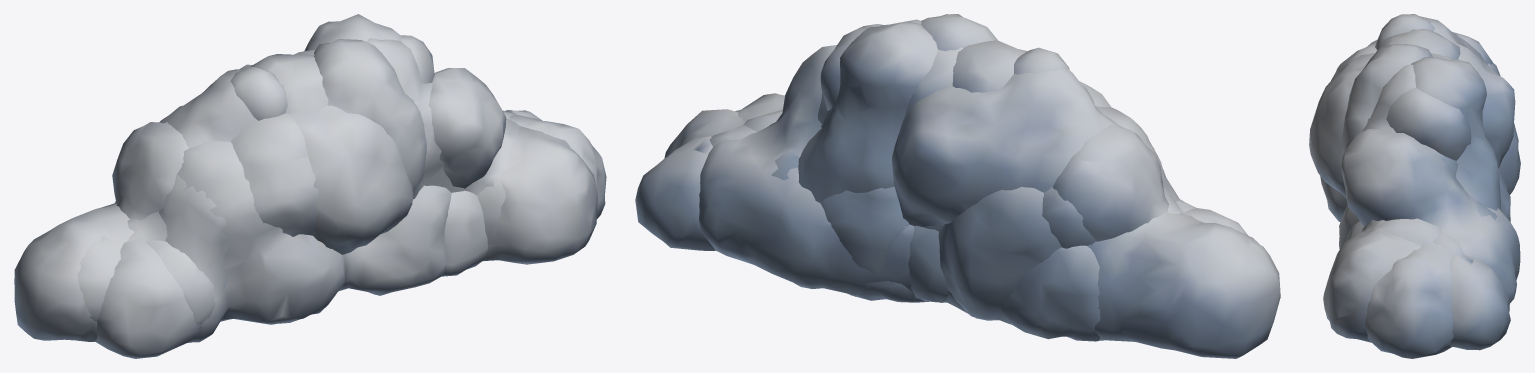
File: clouds.glb
3 renders of one model, left to right at view 1: azimuth 30°, elevation 25°; view 2: azimuth 150°, elevation 25°; view 3: azimuth 270°, elevation 25°, orthographic. The views are drawn at different scales.
Parts seen in each view (by area): view 1: Cloud_0, Cloud_2, Cloud_1, Cloud_4, Cloud_3, Cloud_6, Cloud_7, Cloud_5; view 2: Cloud_4, Cloud_6, Cloud_7, Cloud_5, Cloud_1, Cloud_2, Cloud_3, Cloud_0; view 3: Cloud_4, Cloud_7, Cloud_2, Cloud_1, Cloud_6, Cloud_3, Cloud_5, Cloud_0.
Boxes of the visible parts, x1,y1,x2,y2 form: Cloud_0: [126, 54, 451, 324]; Cloud_2: [77, 39, 542, 321]; Cloud_1: [112, 38, 597, 264]; Cloud_4: [14, 35, 606, 341]; Cloud_3: [146, 105, 520, 328]; Cloud_6: [95, 14, 516, 358]; Cloud_7: [139, 66, 506, 342]; Cloud_5: [159, 54, 328, 342]; Cloud_4: [664, 24, 1280, 358]; Cloud_6: [709, 22, 1247, 341]; Cloud_7: [699, 45, 1069, 296]; Cloud_5: [820, 40, 1179, 320]; Cloud_1: [735, 19, 1169, 241]; Cloud_2: [635, 14, 1259, 302]; Cloud_3: [743, 109, 1196, 248]; Cloud_0: [958, 47, 1193, 217]; Cloud_4: [1365, 16, 1515, 358]; Cloud_7: [1340, 14, 1520, 302]; Cloud_2: [1331, 43, 1510, 350]; Cloud_1: [1323, 32, 1492, 342]; Cloud_6: [1411, 57, 1501, 256]; Cloud_3: [1309, 52, 1500, 245]; Cloud_5: [1376, 29, 1520, 221]; Cloud_0: [1320, 39, 1377, 248].
Bounding box in the file's own units: 4.92 × 1.99 × 1.77.
